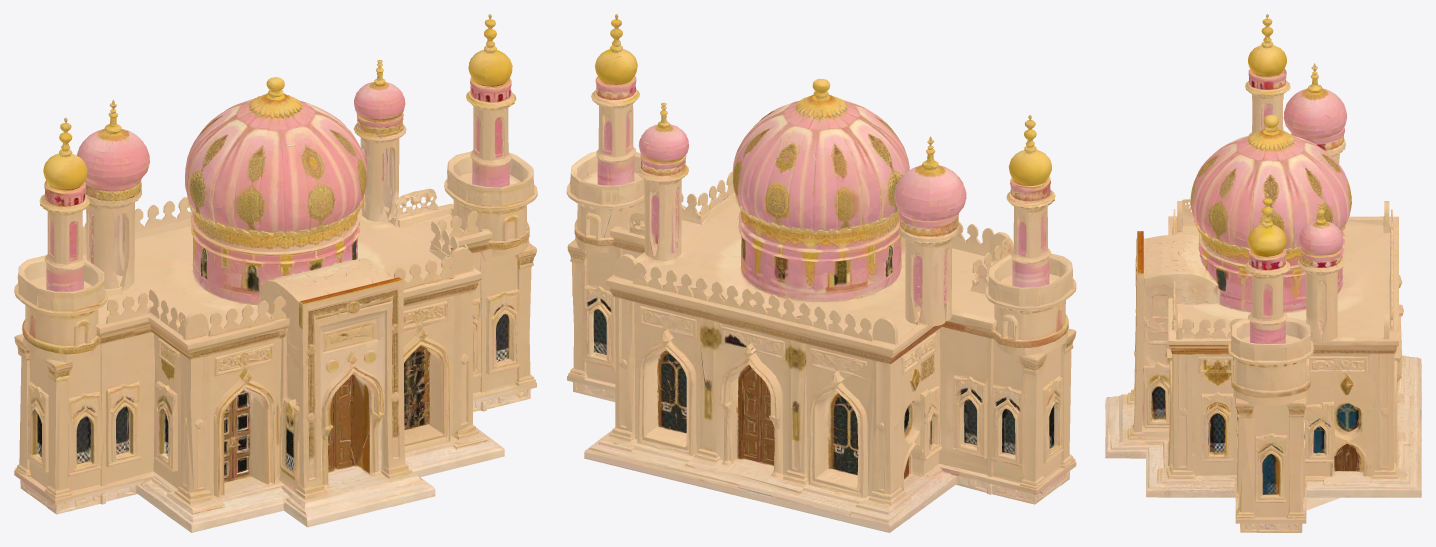
The model's file is palace.glb.
The picture shows the model from 3 angles, left to right: view 1: azimuth 30°, elevation 25°; view 2: azimuth 150°, elevation 25°; view 3: azimuth 270°, elevation 25°; orthographic projection. The views are drawn at different scales.
Bounding box in the file's own units: 1.9 × 1.37 × 1.19.
1 material, 1 textured.
